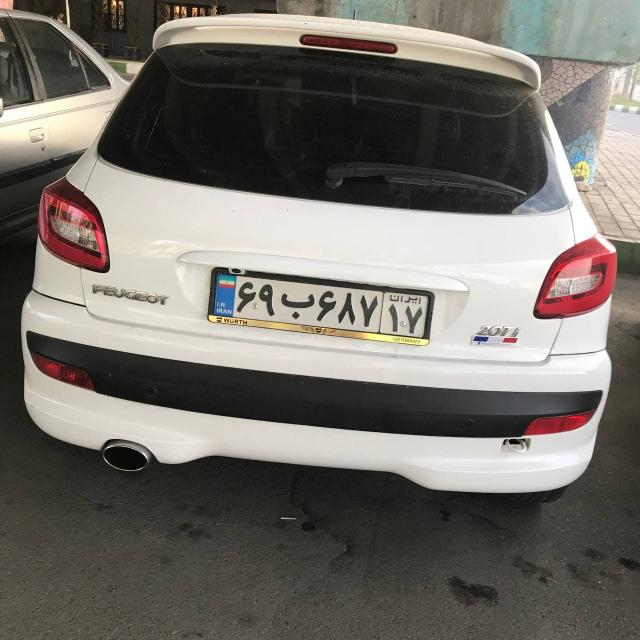Plates: (212, 272, 429, 340)
